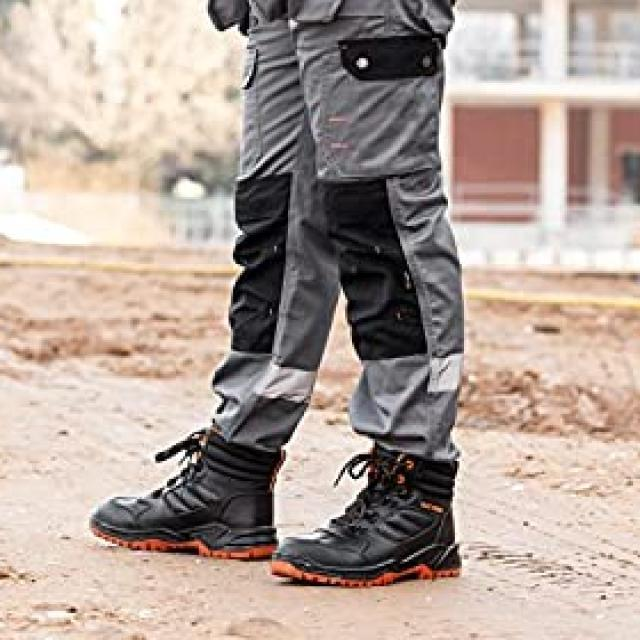boots: (85, 423, 471, 591)
